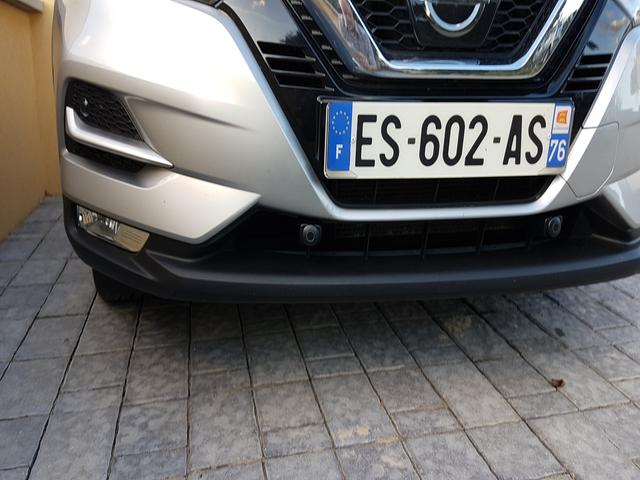Quashquai: (309, 87, 622, 362)
